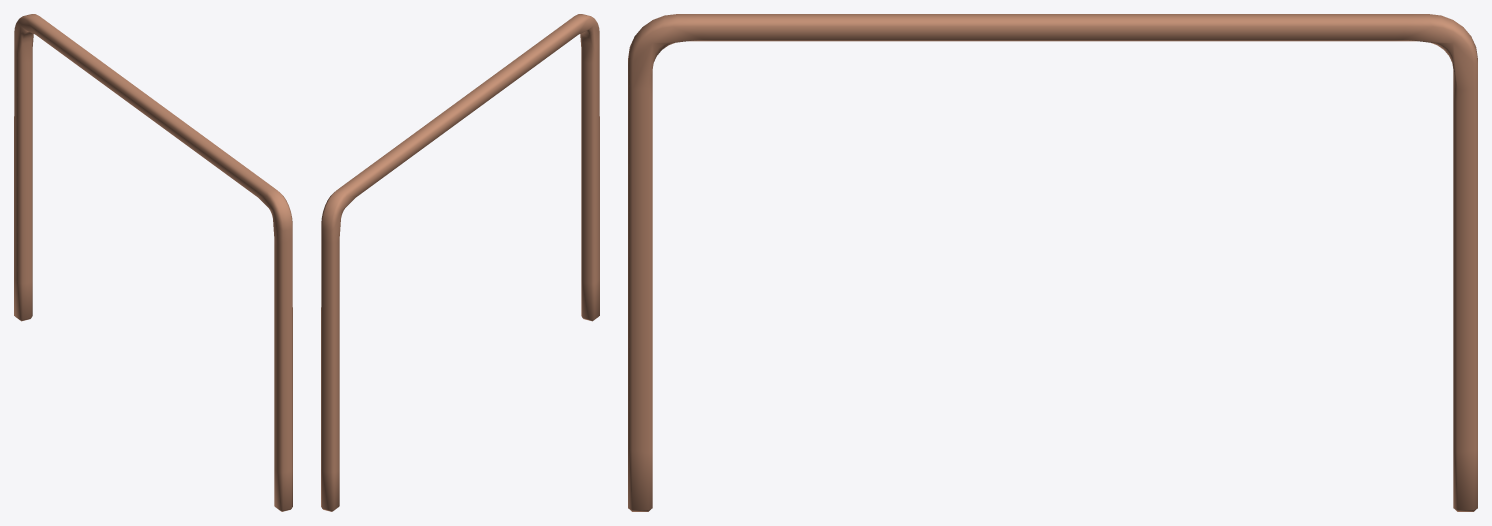
Rendered from Headboard_1.fbx.
3 renders of one model, left to right at view 1: azimuth 30°, elevation 25°; view 2: azimuth 150°, elevation 25°; view 3: azimuth 270°, elevation 25°, orthographic. The views are drawn at different scales.
Visible parts, largest first — view 1: Headboard_1; view 2: Headboard_1; view 3: Headboard_1.
Part boxes in pixels (x1,y1,x2,y2): Headboard_1: (14, 14, 292, 511); Headboard_1: (321, 14, 599, 511); Headboard_1: (628, 14, 1477, 511).
Size of the model in its own units: 4.29 by 95.03 by 149.
